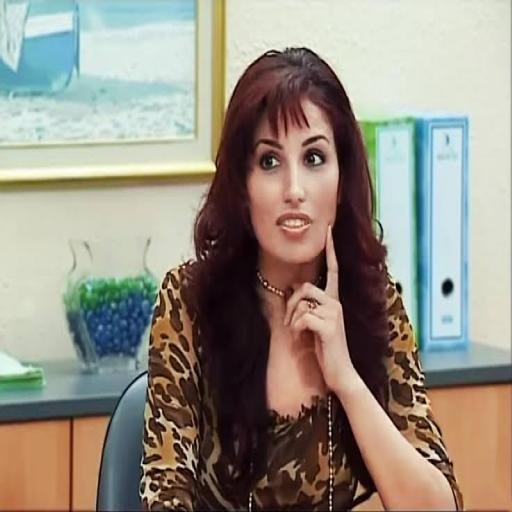Dalanda: (247, 98, 338, 261)
